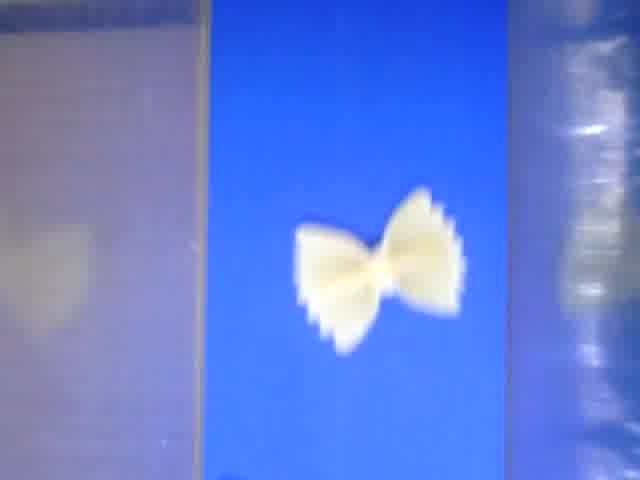farfalle: (293, 185, 467, 355)
